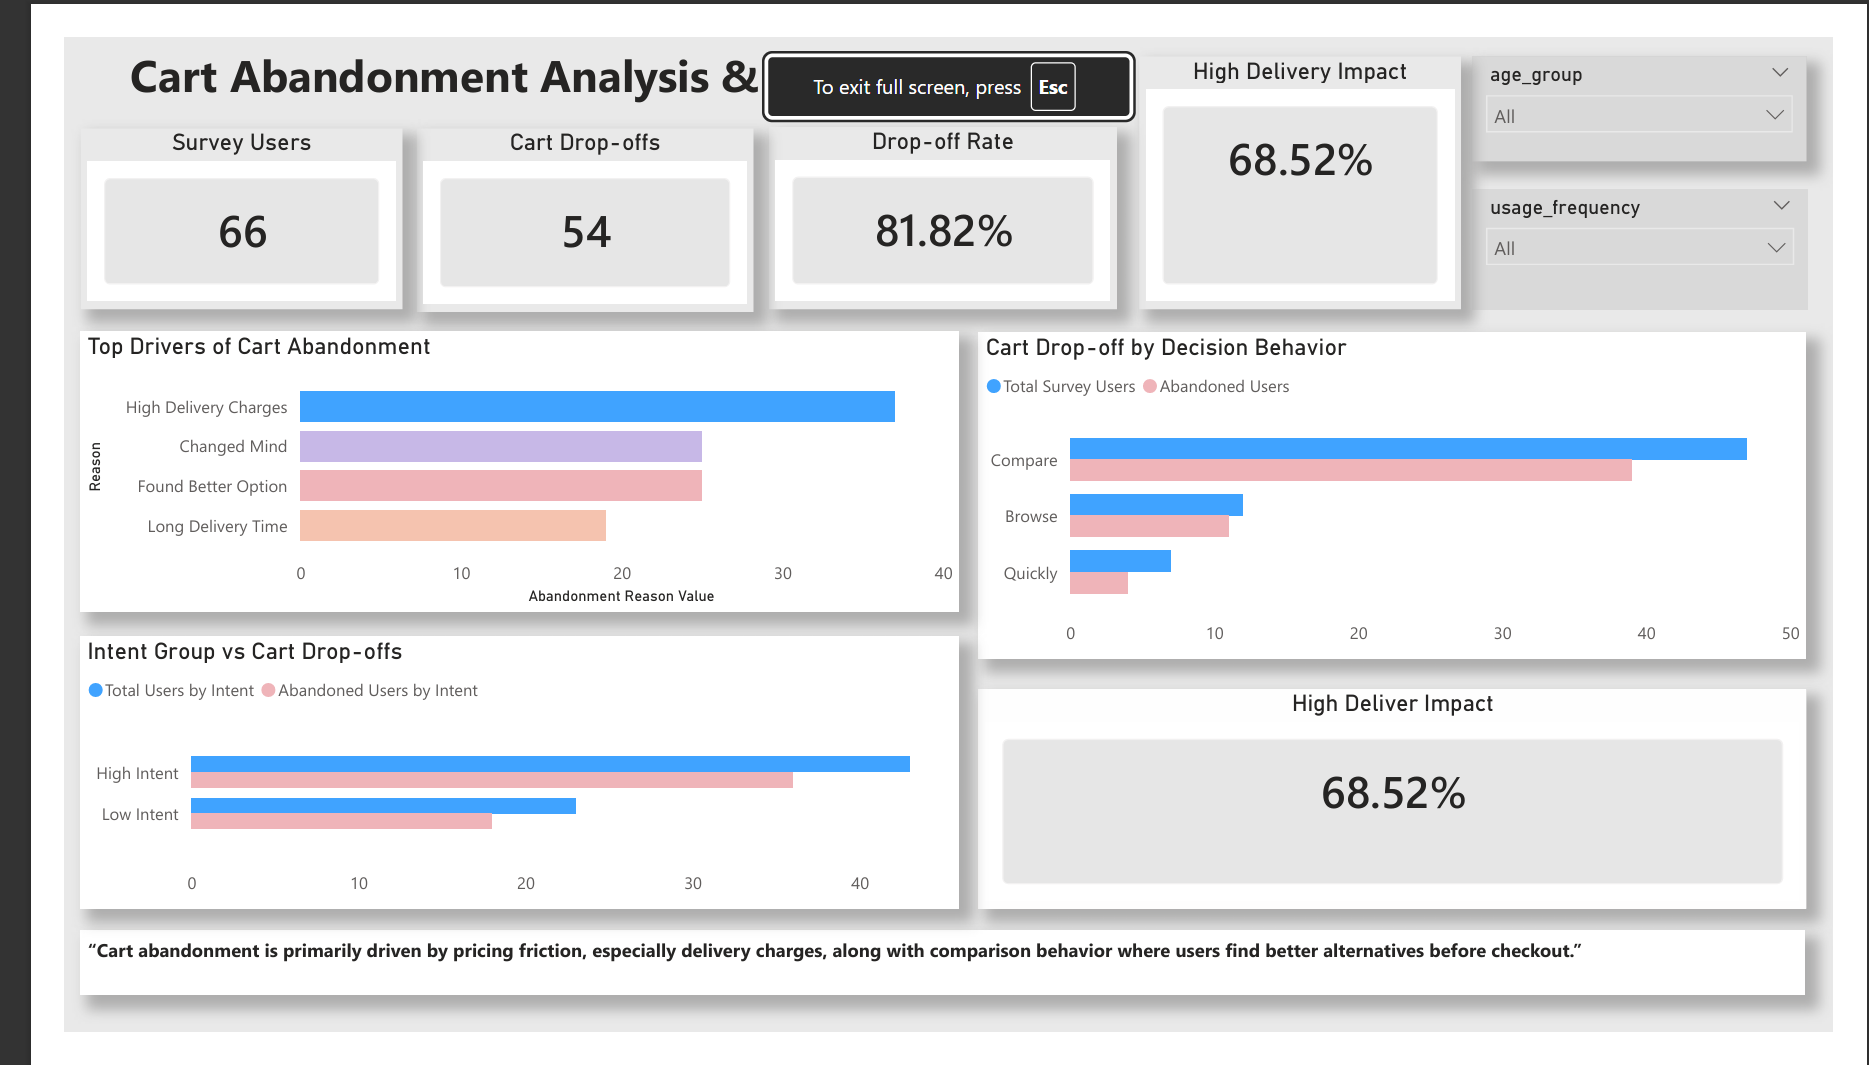

The dashboard page shown, as its layout file describes it:
{"tool":"powerbi","page":{"name":"Cart Abandonment & Drop-off Analysis","canvas":[1280,720],"ordinal":1},"visuals":[{"type":"cardVisual","title":"Survey Users","fields":{"Data":["KPI_Measures.Total Survey Users"]},"box":[11.9,65.7,232.8,131.3],"z":0},{"type":"cardVisual","title":"Cart Drop-offs","fields":{"Data":["KPI_Measures.Abandoned Users"]},"box":[255.2,65.7,243.3,132.8],"z":1},{"type":"cardVisual","title":"Drop-off Rate","fields":{"Data":["KPI_Measures.Cart Abandonment Rate"]},"box":[510.3,65.1,252.1,131.5],"z":2},{"type":"cardVisual","title":"High Delivery Impact","fields":{"Data":["KPI_Measures.High Delivery Impact %"]},"box":[778.2,14.5,232.8,182.2],"z":3},{"type":"clusteredBarChart","title":"Cart Drop-off by Decision Behavior","fields":{"Category":["Survey_Data.decision_style"],"Y":["KPI_Measures.Total Survey Users","KPI_Measures.Abandoned Users"]},"box":[662.3,213.5,598.4,236.5],"z":5},{"type":"cardVisual","title":"High Deliver Impact","fields":{"Data":["KPI_Measures.High Delivery Impact %"]},"box":[662.3,471.7,598.4,159.3],"z":8},{"type":"textbox","box":[12.1,646.7,1247.5,47.1],"z":9},{"type":"textbox","box":[33.8,0,1246.3,139.9],"z":10},{"type":"clusteredBarChart","title":"Top Drivers of Cart Abandonment","fields":{"Category":["Abandonment Reason Table.Reason"],"Y":["KPI_Measures.Abandonment Reason Value"]},"box":[11.9,213.4,635.8,203],"z":11},{"type":"clusteredBarChart","title":"Intent Group vs Cart Drop-offs","fields":{"Category":["Survey_Data.intent_group"],"Y":["KPI_Measures.Total Users by Intent","KPI_Measures.Abandoned Users by Intent"]},"box":[12.1,434.3,635.8,196.6],"z":12},{"type":"slicer","fields":{"Values":["Survey_Data.age_group"]},"box":[1019.4,14.5,241.3,76],"z":13},{"type":"slicer","fields":{"Values":["Survey_Data.usage_frequency"]},"box":[1019.4,109.8,242.5,86.9],"z":14}]}

Visuals, with their boxes on the page's 1280x720 design canvas (x1, y1, x2, y2). These are canvas units, not pixel positions in the 1869x1065 screenshot, which may show the page scaled, cropped or inside an application window:
"Survey Users" cardVisual: [left=12, top=66, right=245, bottom=197]
"Cart Drop-offs" cardVisual: [left=255, top=66, right=498, bottom=198]
"Drop-off Rate" cardVisual: [left=510, top=65, right=762, bottom=197]
"High Delivery Impact" cardVisual: [left=778, top=14, right=1011, bottom=197]
"Cart Drop-off by Decision Behavior" clusteredBarChart: [left=662, top=214, right=1261, bottom=450]
"High Deliver Impact" cardVisual: [left=662, top=472, right=1261, bottom=631]
textbox: [left=12, top=647, right=1260, bottom=694]
textbox: [left=34, top=0, right=1280, bottom=140]
"Top Drivers of Cart Abandonment" clusteredBarChart: [left=12, top=213, right=648, bottom=416]
"Intent Group vs Cart Drop-offs" clusteredBarChart: [left=12, top=434, right=648, bottom=631]
slicer - Survey_Data.age_group: [left=1019, top=14, right=1261, bottom=90]
slicer - Survey_Data.usage_frequency: [left=1019, top=110, right=1262, bottom=197]
